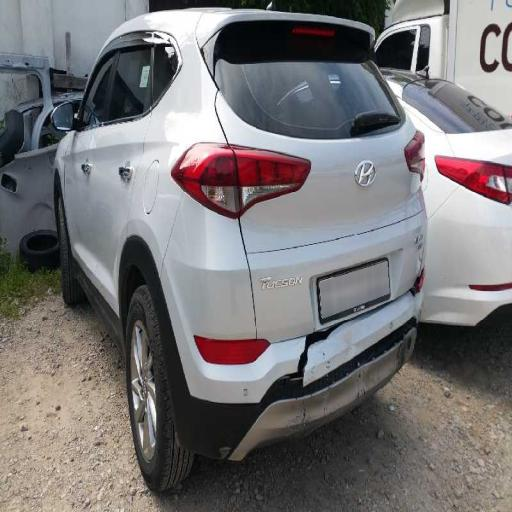broken: (207, 202, 446, 428)
